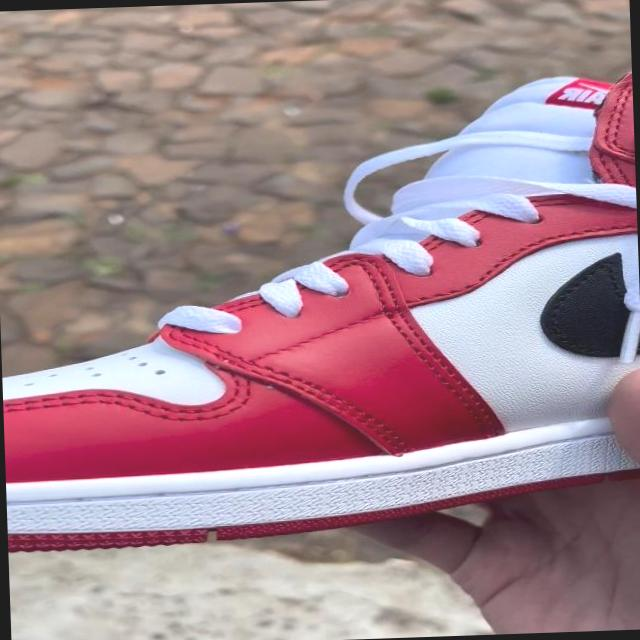nike_original_jordan: (0, 189, 640, 550)
